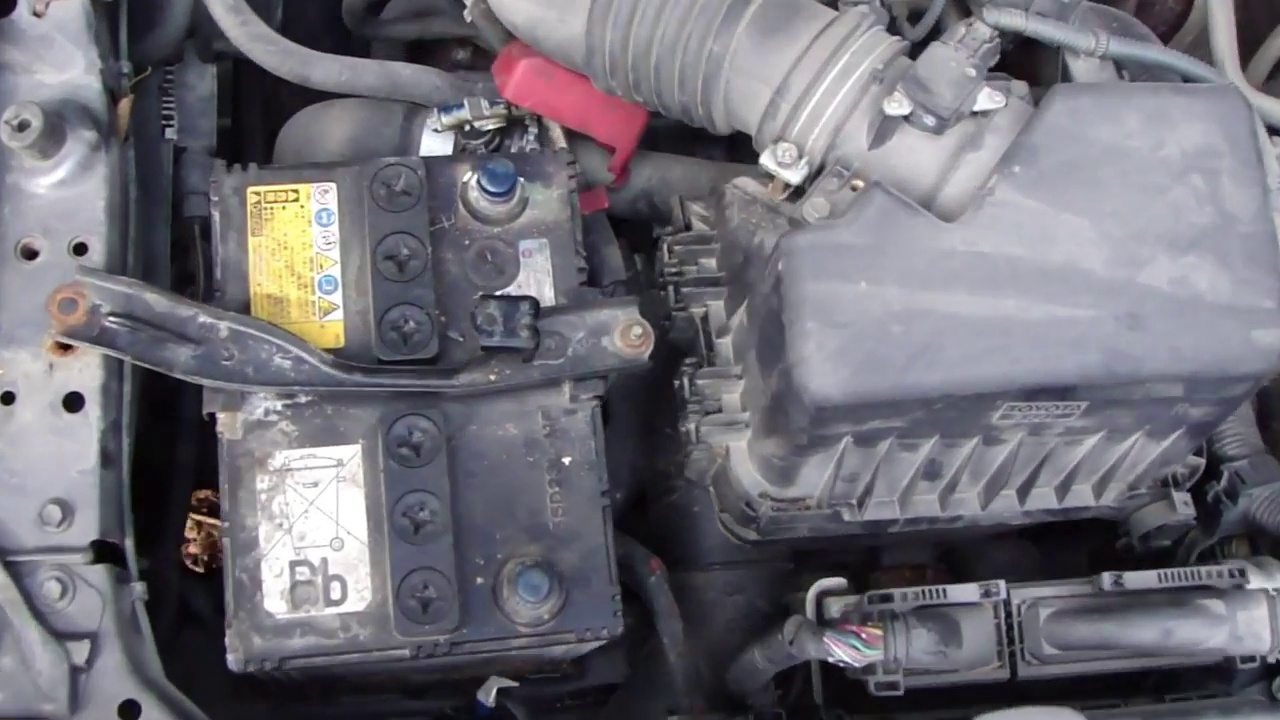battery: (190, 155, 617, 676)
neg_disconnected: (485, 533, 578, 642)
pos_disconnected: (447, 21, 638, 239)
